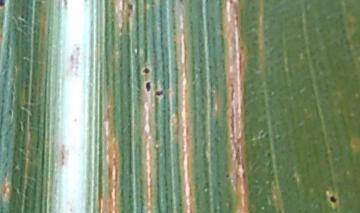tarspot: (143, 79, 153, 94), (328, 192, 338, 206), (125, 1, 136, 12), (154, 88, 164, 98), (1, 1, 10, 10), (141, 67, 152, 74), (125, 11, 132, 17)
